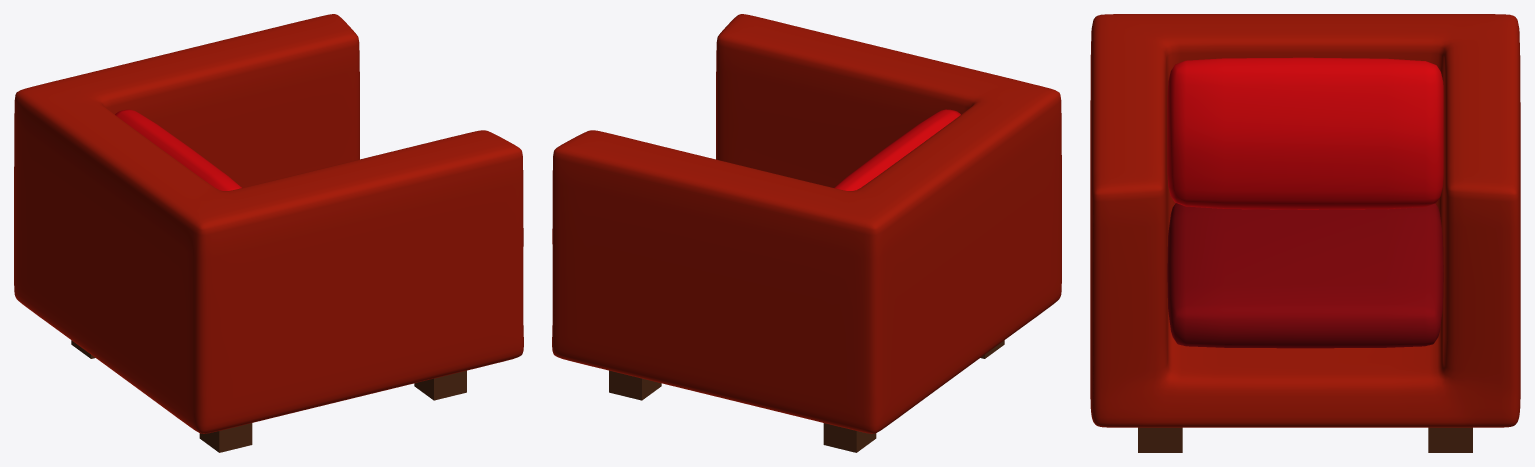
File: Fancy_Chair.glb
The picture shows the model from 3 angles, left to right: view 1: azimuth 30°, elevation 25°; view 2: azimuth 150°, elevation 25°; view 3: azimuth 270°, elevation 25°; orthographic projection. The views are drawn at different scales.
Visible parts, largest first — view 1: Fancy_Chair, Pillow, Chair_Legs; view 2: Fancy_Chair, Pillow, Chair_Legs; view 3: Fancy_Chair, Pillow, Seat_Pillow, Chair_Legs.
Boxes of the visible parts, x1,y1,x2,y2 form: Fancy_Chair: [14, 14, 523, 433]; Pillow: [115, 109, 241, 190]; Chair_Legs: [71, 340, 466, 452]; Fancy_Chair: [552, 14, 1061, 433]; Pillow: [834, 109, 960, 190]; Chair_Legs: [609, 340, 1004, 452]; Fancy_Chair: [1090, 14, 1520, 427]; Pillow: [1167, 57, 1443, 209]; Seat_Pillow: [1167, 203, 1443, 348]; Chair_Legs: [1138, 427, 1472, 452].
Bounding box in the file's own units: 0.9969 × 0.7298 × 1.
